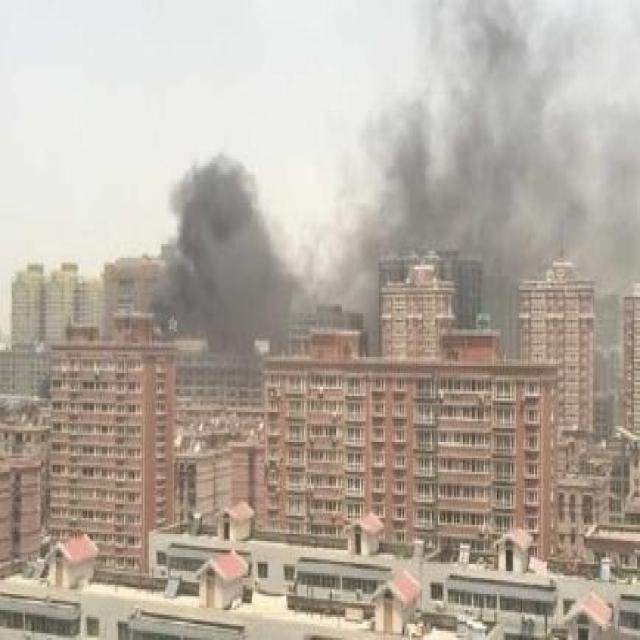Smoke: (149, 2, 640, 357)
